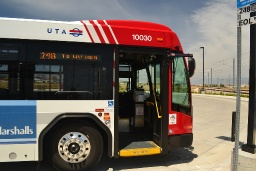bus: (1, 16, 195, 166)
